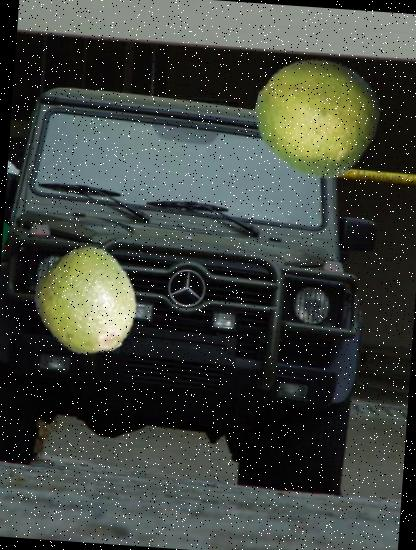Limes: (250, 51, 382, 182), (31, 246, 145, 360)
